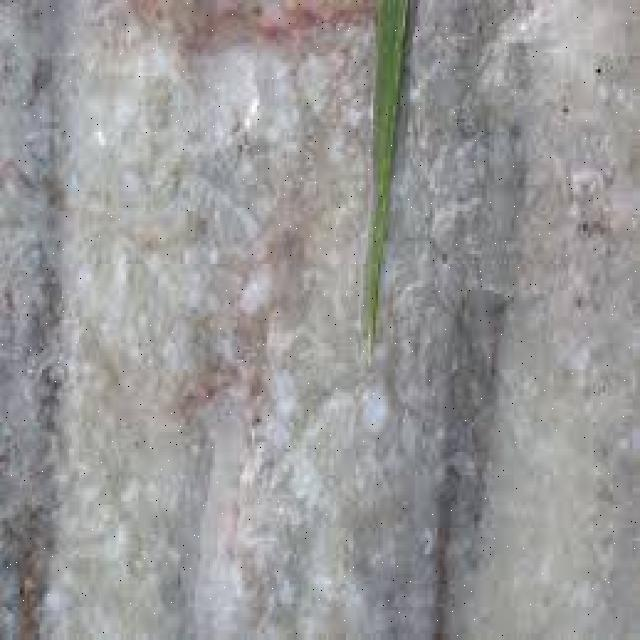Metamorphic: (2, 7, 628, 620)
